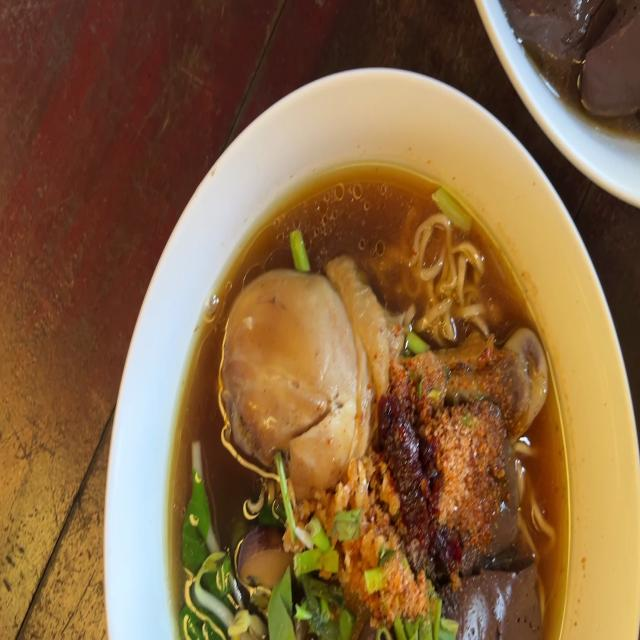boiled_chicken_blood_jelly: (415, 559, 545, 640)
chicken_drumstick: (218, 276, 548, 460)
noodle: (145, 138, 575, 640)
